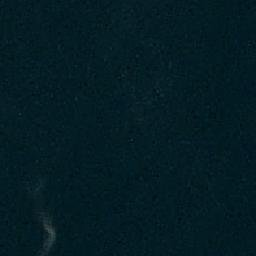debris: (38, 210, 58, 254)
